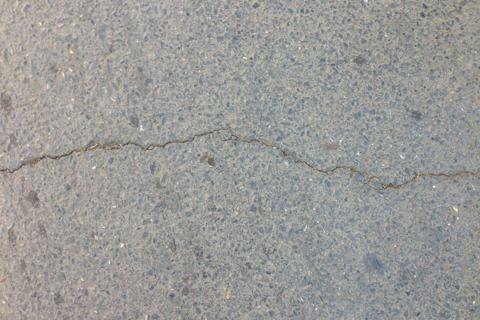crack: (3, 131, 480, 203)
